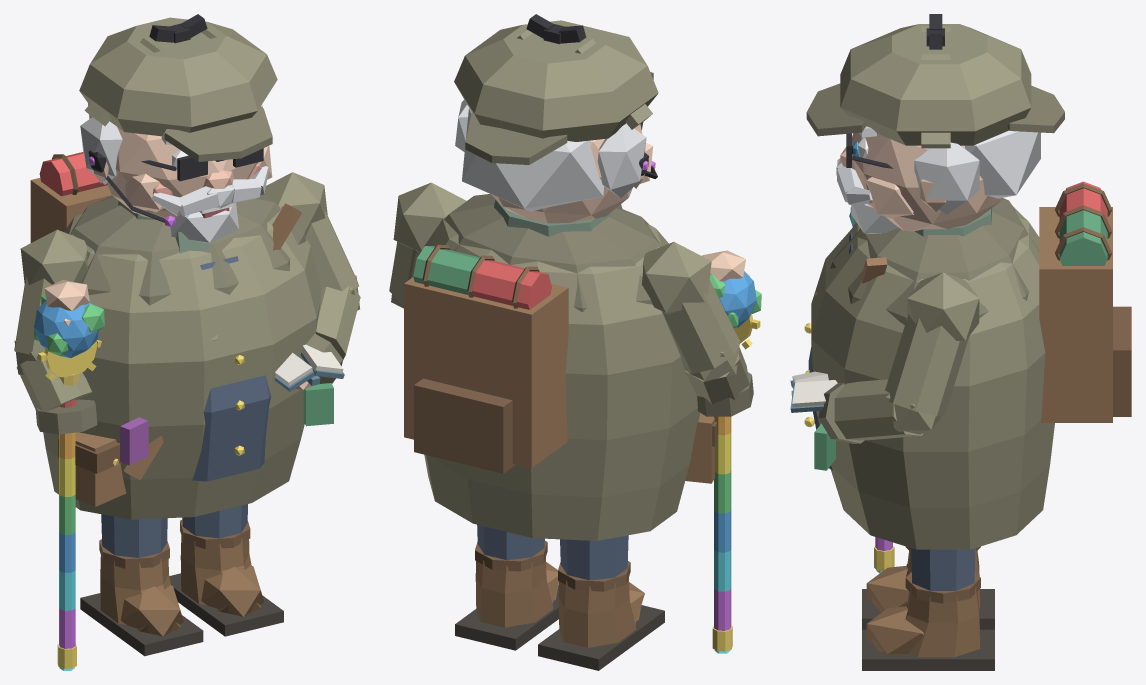
The model's file is adventure.glb.
3 renders of one model, left to right at view 1: azimuth 30°, elevation 25°; view 2: azimuth 150°, elevation 25°; view 3: azimuth 270°, elevation 25°, orthographic. The views are drawn at different scales.
Visible parts, largest first — view 1: Adventure; view 2: Adventure; view 3: Adventure.
Boxes of the visible parts, x1,y1,x2,y2 form: Adventure: (14,14,360,670); Adventure: (389,14,761,670); Adventure: (790,14,1131,670).
Bounding box in the file's own units: 1.09 × 1.84 × 0.9242.
